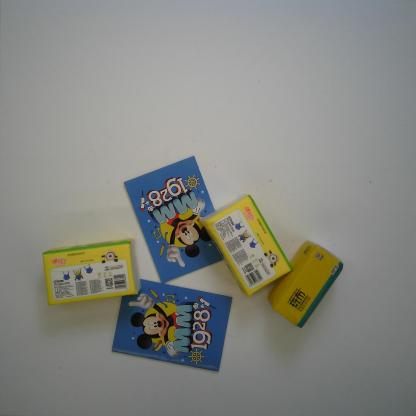Stationery: (122, 154, 226, 284), (111, 278, 233, 372)
Tissue: (200, 192, 293, 298), (41, 236, 142, 306), (268, 239, 344, 329)
